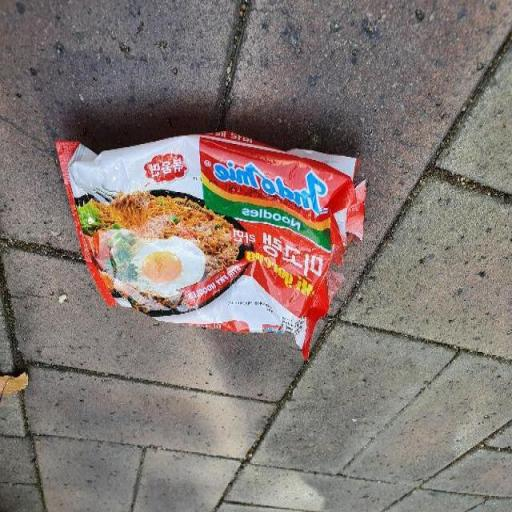plastic-bag: (50, 132, 369, 360)
